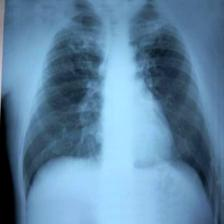tuberculosis: (11, 0, 220, 224)
